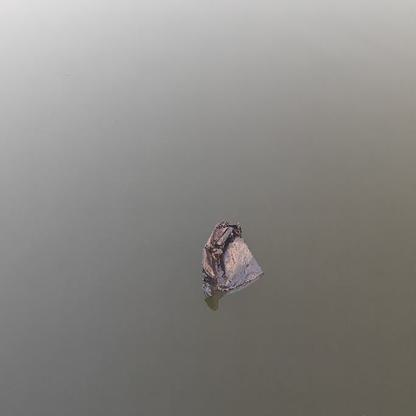plastic bag: (199, 222, 265, 299)
